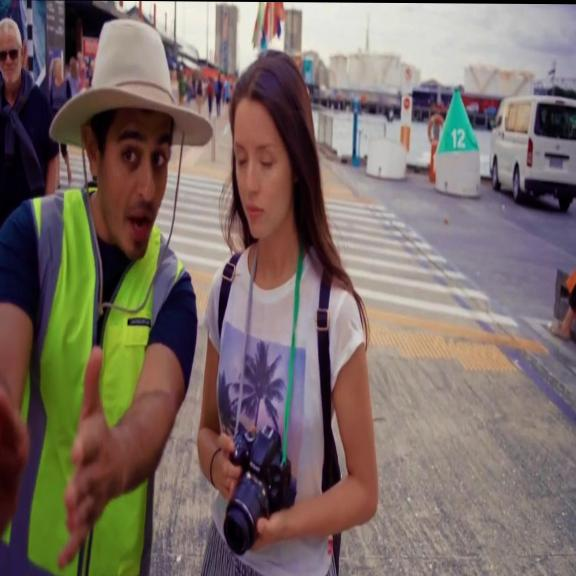safety_vest: (0, 184, 192, 576)
